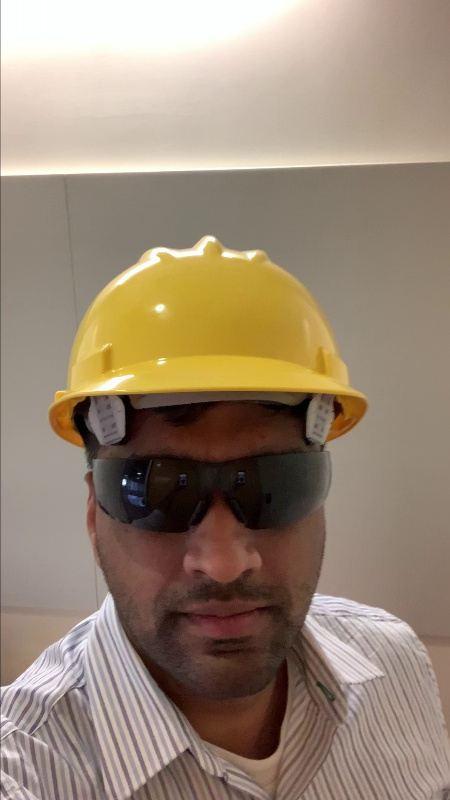glasses: (85, 447, 347, 530)
helmet: (41, 232, 376, 442)
